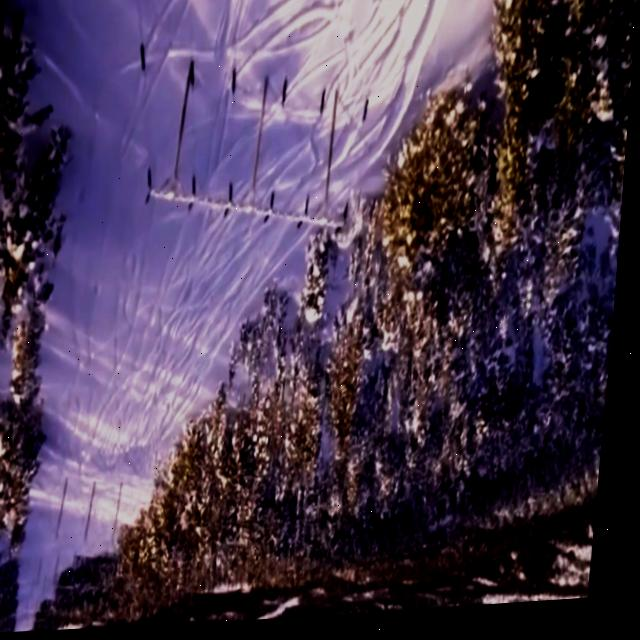poles: (143, 68, 356, 235), (64, 481, 75, 539), (120, 485, 130, 546), (93, 484, 103, 543), (288, 620, 295, 623)
